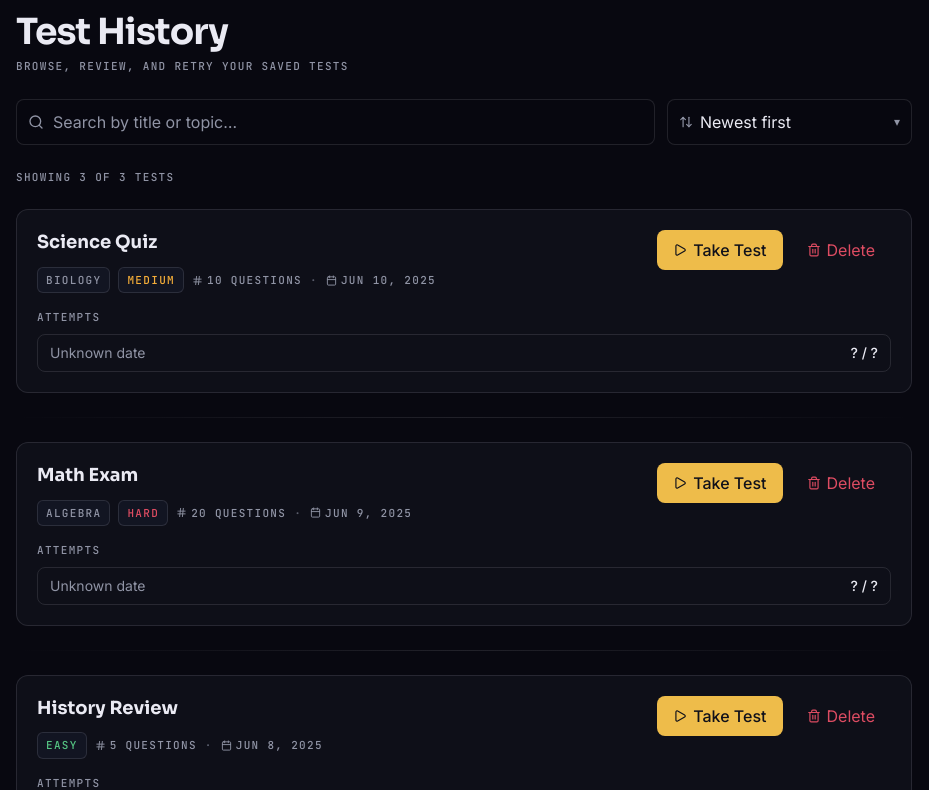
Test: TestHistory › shows no matches message for empty search
Expected: the heading "Science Quiz" is shown, top-left (37, 231), bottom-right (157, 253)
In the search field with placeholder "Search by title or topic…": (336, 122) top-left (16, 98), bottom-right (655, 144), type "zzzznonexistent"
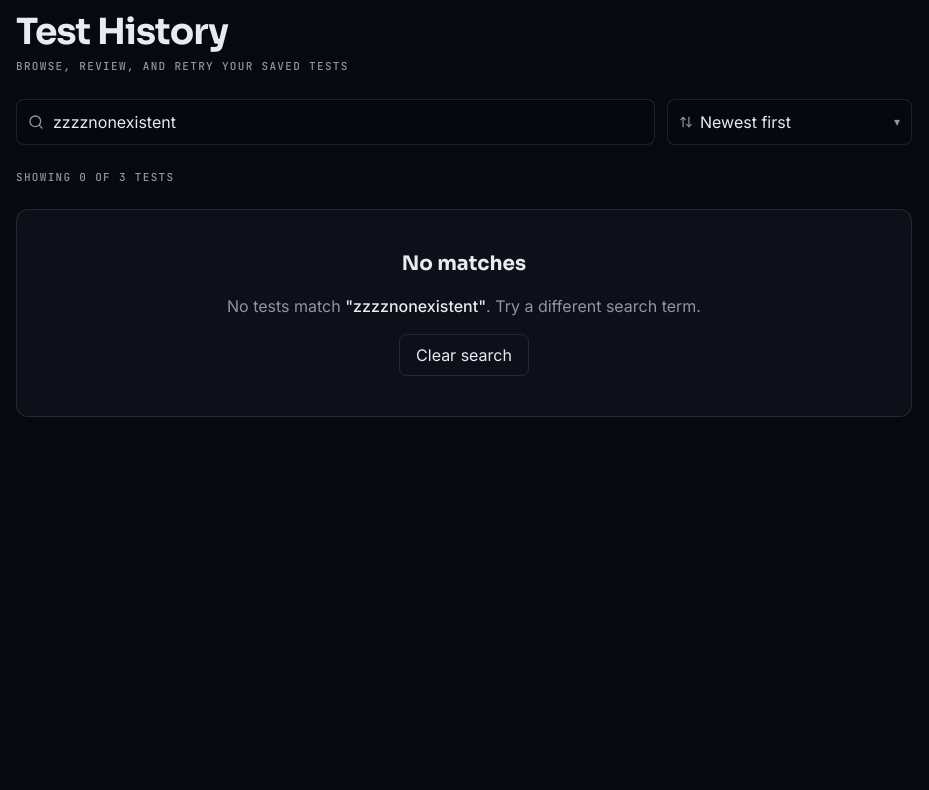
Result: the heading "No matches" is shown at top-left (402, 251), bottom-right (526, 276)
